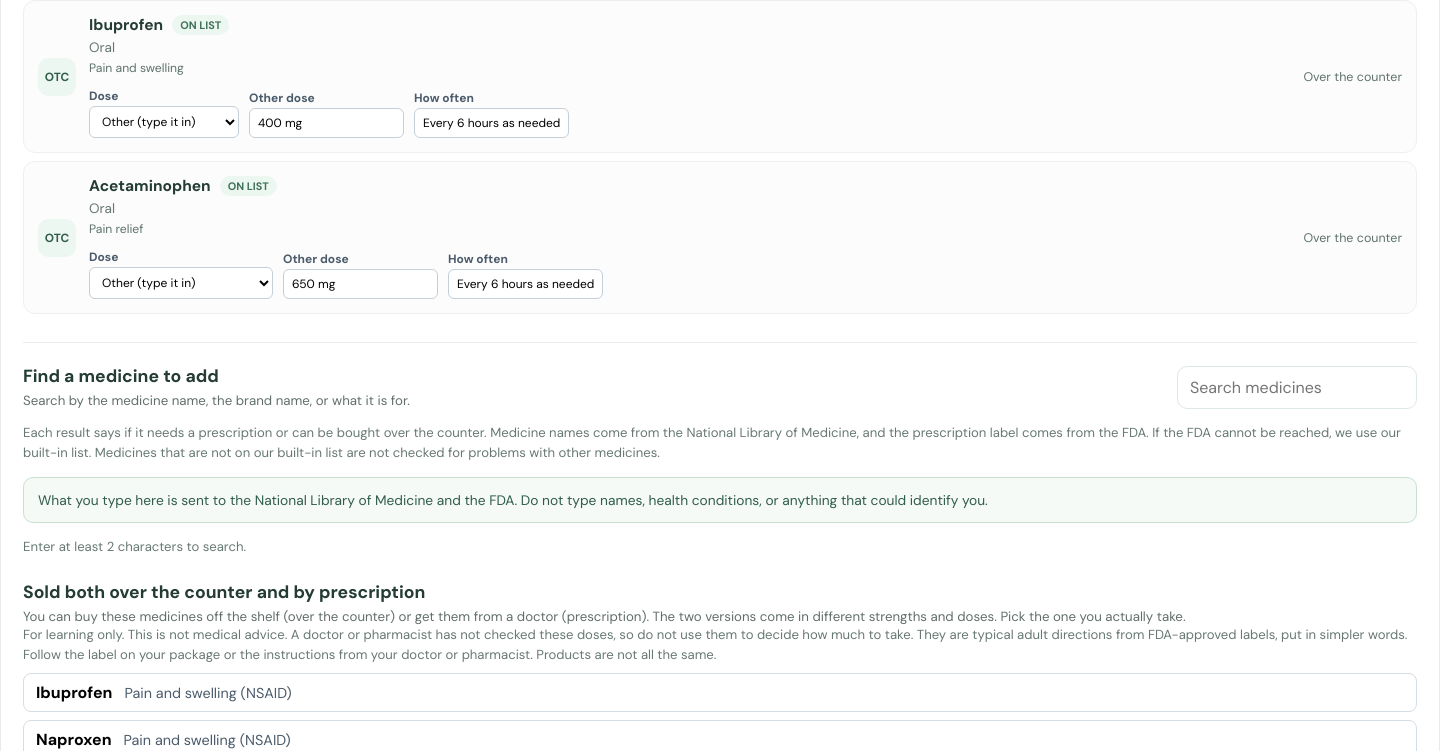
Test: adds from the built-in reference list and screens it immediately
(page scrolled)
Type "warfarin" into the search field named "Search all medicines". click: [1297, 388]
box: [1177,366,1417,409]
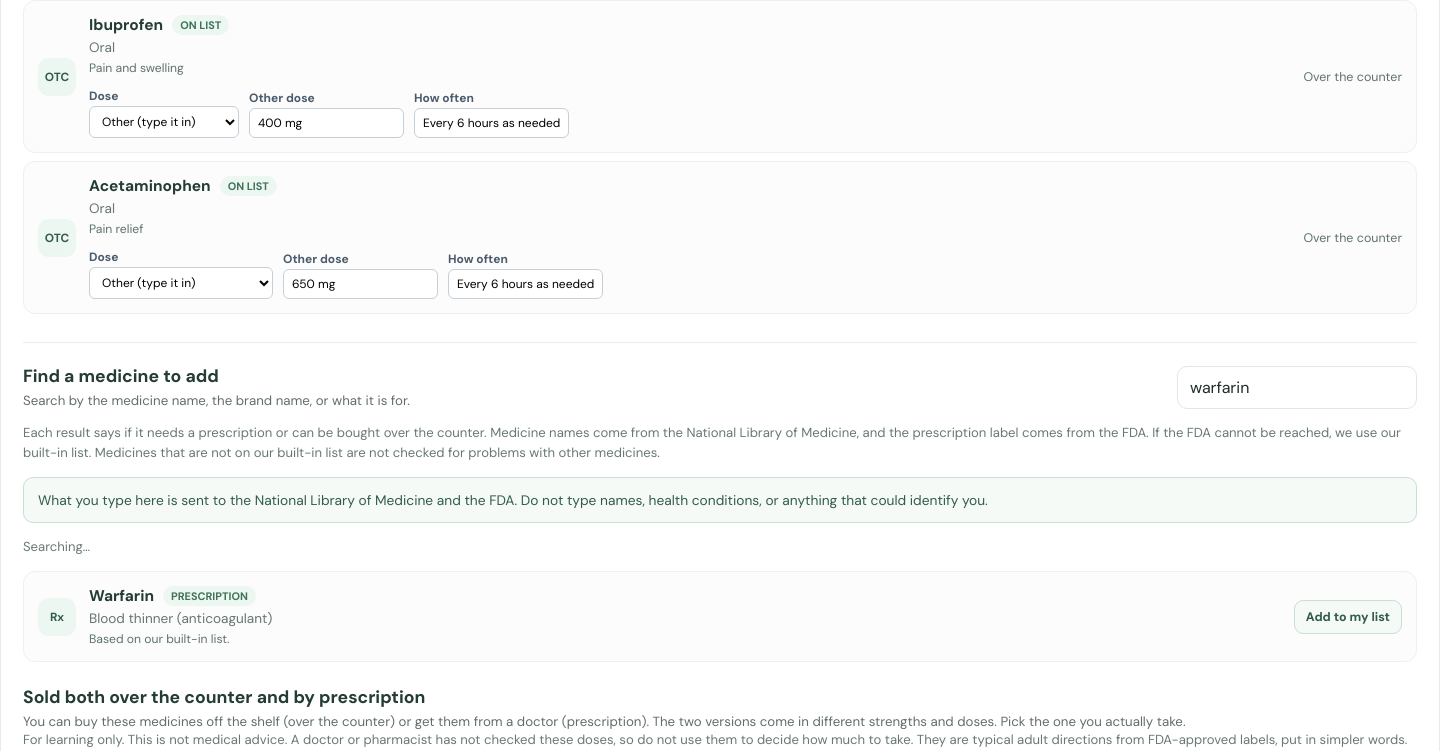
Click the button with aria-label "Add Warfarin". click: [1348, 617]
box: [1294,600,1402,634]
(page scrolled)
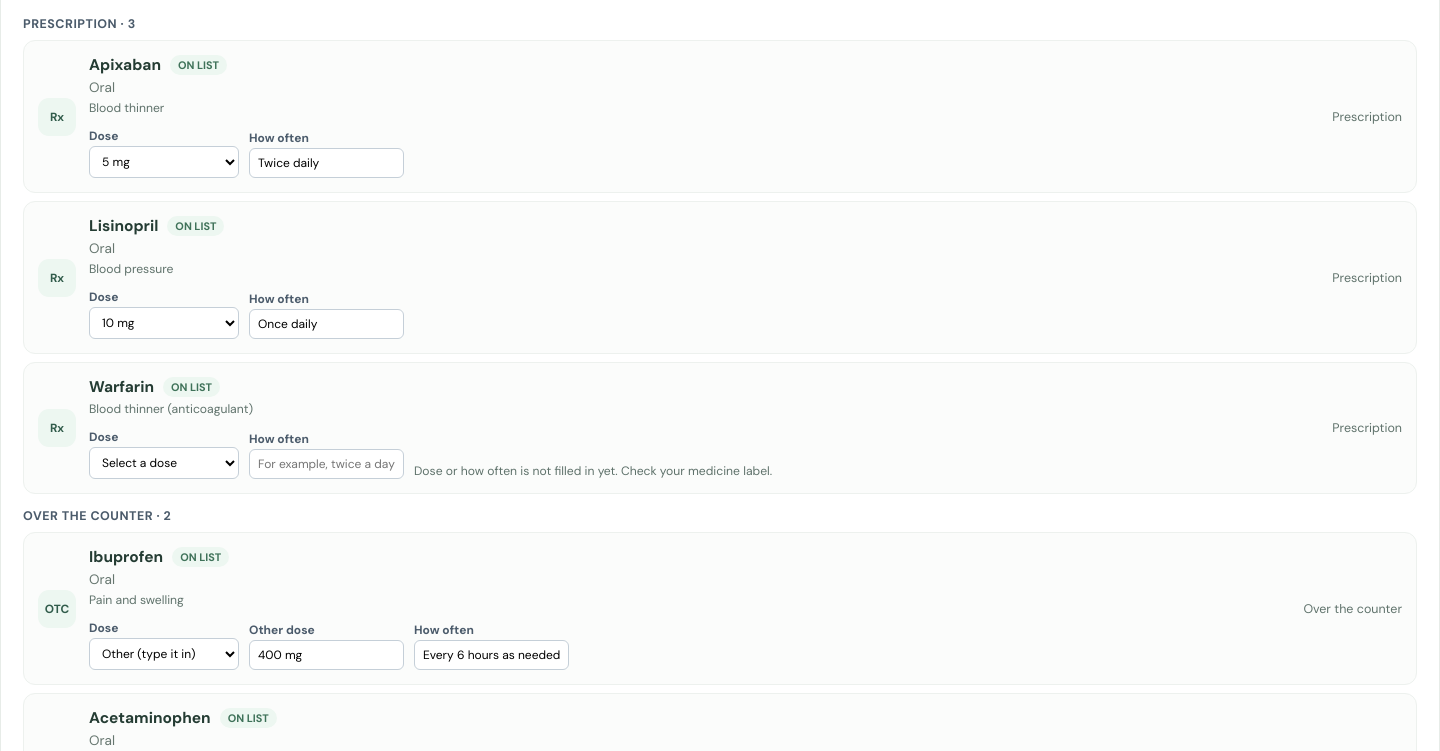
Expected: the text "Warfarin" is shown, [89,378,154,398]
